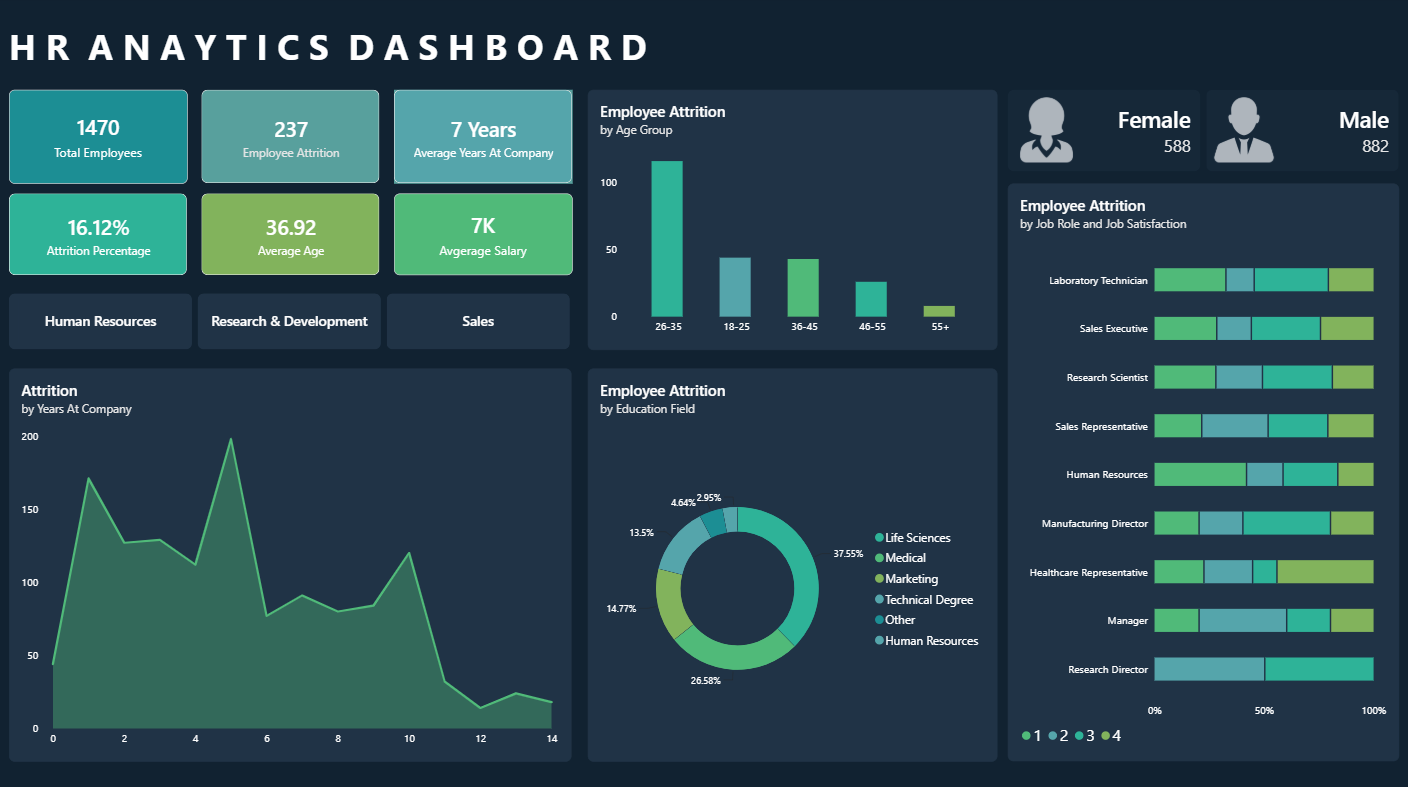

The dashboard page shown, as its layout file describes it:
{"tool":"powerbi","page":{"name":"HR ANALYTICS DASHBOARD","canvas":[1920,1080],"ordinal":0},"visuals":[{"type":"image","box":[1601.4,137.9,187.3,88.5],"z":0},{"type":"image","box":[1331.7,137.9,187.3,88.5],"z":1000},{"type":"cardVisual","fields":{"Data":["HR_Analytics.Emp_Attrition"]},"box":[275.8,127.6,242.9,127.6],"z":2000},{"type":"card","fields":{"Values":["HR_Analytics.Emp_count"]},"box":[14.4,127.6,242.9,127.6],"z":3000},{"type":"cardVisual","fields":{"Data":["HR_Analytics.Avg_Years_InCompany"]},"box":[537.2,127.6,242.9,127.6],"z":4000},{"type":"cardVisual","fields":{"Data":["HR_Analytics.Attrition%"]},"box":[14.4,269.6,242.9,111.1],"z":5000},{"type":"card","fields":{"Values":["HR_Analytics.Avg_Salary"]},"box":[537.2,269.6,242.9,111.1],"z":6000},{"type":"cardVisual","fields":{"Data":["HR_Analytics.Avg_Age"]},"box":[275.8,269.6,242.9,111.1],"z":7000},{"type":"areaChart","fields":{"Category":["HR_Analytics.YearsAtCompany"],"Y":["CountNonNull(HR_Analytics.Attrition)"]},"box":[14.4,506.3,765.7,535.2],"z":8000},{"type":"donutChart","fields":{"Category":["HR_Analytics.EducationField"],"Y":["HR_Analytics.Emp_Attrition"]},"box":[800.7,506.3,557.8,535.2],"z":9000},{"type":"clusteredColumnChart","fields":{"Category":["HR_Analytics.AgeGroup"],"Y":["HR_Analytics.Emp_Attrition"]},"box":[800.7,127.6,557.8,354],"z":10000},{"type":"hundredPercentStackedBarChart","fields":{"Category":["HR_Analytics.JobRole"],"Series":["HR_Analytics.JobSatisfaction"],"Y":["HR_Analytics.Emp_Attrition"]},"box":[1372.9,255.2,533.1,786.3],"z":11000},{"type":"advancedSlicerVisual","fields":{"Values":["HR_Analytics.Department"]},"box":[14.4,405.5,765.7,76.2],"z":12000},{"type":"advancedSlicerVisual","fields":{"Values":["HR_Analytics.Gender"]},"box":[1372.9,127.6,533.1,111.1],"z":13000},{"type":"textbox","box":[14.4,35,1856.6,74.1],"z":14000}]}

Visuals, with their boxes in screenshot pixels (x1, y1, x2, y2), scaled from the page's 1920x1080 canvas onto the 1408x787 screenshot:
image: {"x1": 1174, "y1": 100, "x2": 1312, "y2": 165}
image: {"x1": 977, "y1": 100, "x2": 1114, "y2": 165}
cardVisual - HR_Analytics.Emp_Attrition: {"x1": 202, "y1": 93, "x2": 380, "y2": 186}
card - HR_Analytics.Emp_count: {"x1": 11, "y1": 93, "x2": 189, "y2": 186}
cardVisual - HR_Analytics.Avg_Years_InCompany: {"x1": 394, "y1": 93, "x2": 572, "y2": 186}
cardVisual - HR_Analytics.Attrition%: {"x1": 11, "y1": 196, "x2": 189, "y2": 277}
card - HR_Analytics.Avg_Salary: {"x1": 394, "y1": 196, "x2": 572, "y2": 277}
cardVisual - HR_Analytics.Avg_Age: {"x1": 202, "y1": 196, "x2": 380, "y2": 277}
areaChart - HR_Analytics.YearsAtCompany x CountNonNull(HR_Analytics.Attrition): {"x1": 11, "y1": 369, "x2": 572, "y2": 759}
donutChart - HR_Analytics.EducationField x HR_Analytics.Emp_Attrition: {"x1": 587, "y1": 369, "x2": 996, "y2": 759}
clusteredColumnChart - HR_Analytics.AgeGroup x HR_Analytics.Emp_Attrition: {"x1": 587, "y1": 93, "x2": 996, "y2": 351}
hundredPercentStackedBarChart - HR_Analytics.JobRole x HR_Analytics.JobSatisfaction: {"x1": 1007, "y1": 186, "x2": 1398, "y2": 759}
advancedSlicerVisual - HR_Analytics.Department: {"x1": 11, "y1": 295, "x2": 572, "y2": 351}
advancedSlicerVisual - HR_Analytics.Gender: {"x1": 1007, "y1": 93, "x2": 1398, "y2": 174}
textbox: {"x1": 11, "y1": 26, "x2": 1372, "y2": 80}
